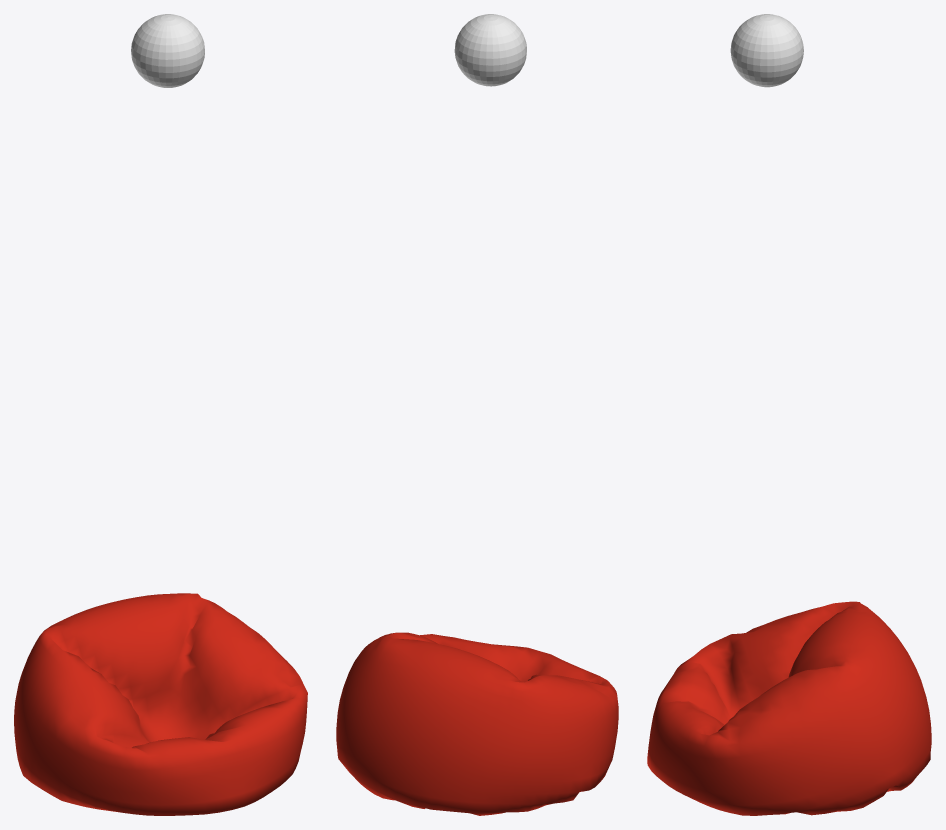
Rendered from VelvetBeanBag.glb.
The picture shows the model from 3 angles, left to right: view 1: azimuth 30°, elevation 25°; view 2: azimuth 150°, elevation 25°; view 3: azimuth 270°, elevation 25°; orthographic projection. The views are drawn at different scales.
Visible parts, largest first — view 1: Cube, Sphere; view 2: Cube, Sphere; view 3: Cube, Sphere.
Boxes of the visible parts, bbox=[...] form: Cube: bbox=[14, 593, 307, 815]; Sphere: bbox=[131, 14, 204, 87]; Cube: bbox=[336, 632, 618, 815]; Sphere: bbox=[454, 14, 526, 86]; Cube: bbox=[647, 601, 931, 815]; Sphere: bbox=[730, 14, 803, 87].
Size of what is drawn, in the model's own units: 1.71 by 4.95 by 1.71.
